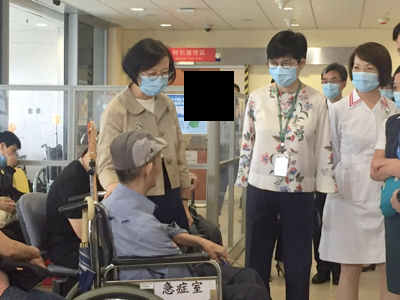with_mask: (138, 66, 171, 99), (352, 62, 380, 94), (267, 59, 299, 86), (322, 76, 342, 100), (377, 83, 394, 102)
